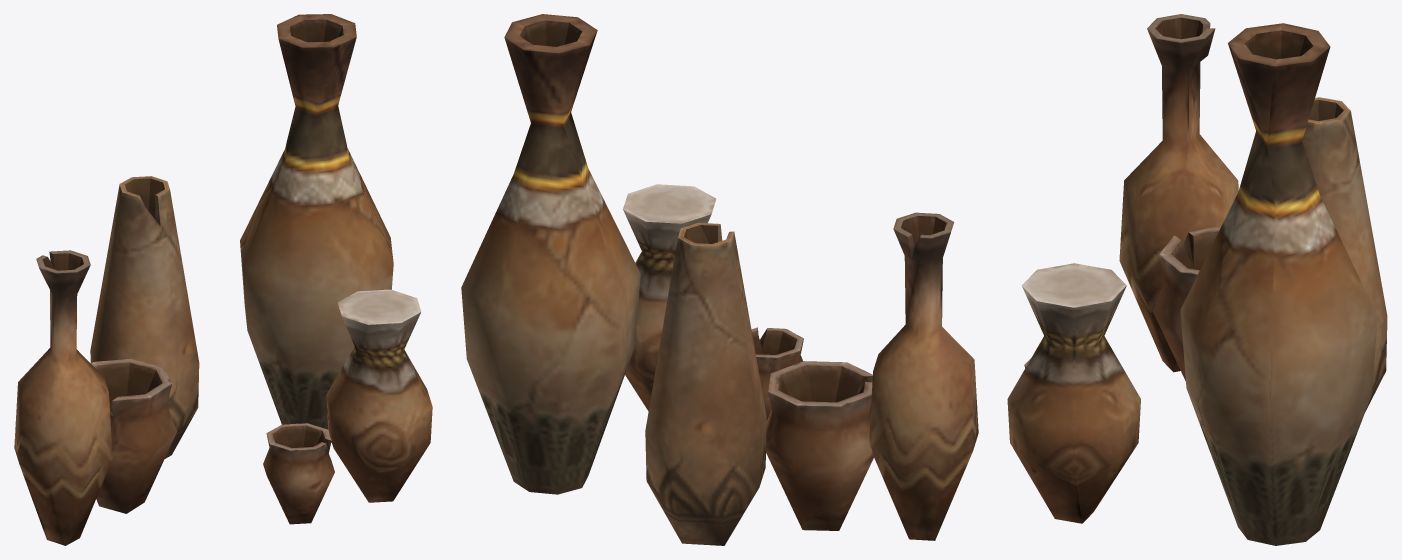
The model's file is shakian_object_pot04.FBX.
The picture shows the model from 3 angles, left to right: view 1: azimuth 30°, elevation 25°; view 2: azimuth 150°, elevation 25°; view 3: azimuth 270°, elevation 25°; orthographic projection. The views are drawn at different scales.
Visible parts, largest first — view 1: shakian_object_pot04; view 2: shakian_object_pot04; view 3: shakian_object_pot04.
Part boxes in pixels (<box>): shakian_object_pot04: <box>14,14,432,545</box>; shakian_object_pot04: <box>461,14,978,545</box>; shakian_object_pot04: <box>1007,14,1387,545</box>.
Size of the model in its own units: 1.83 by 1.74 by 1.21.
